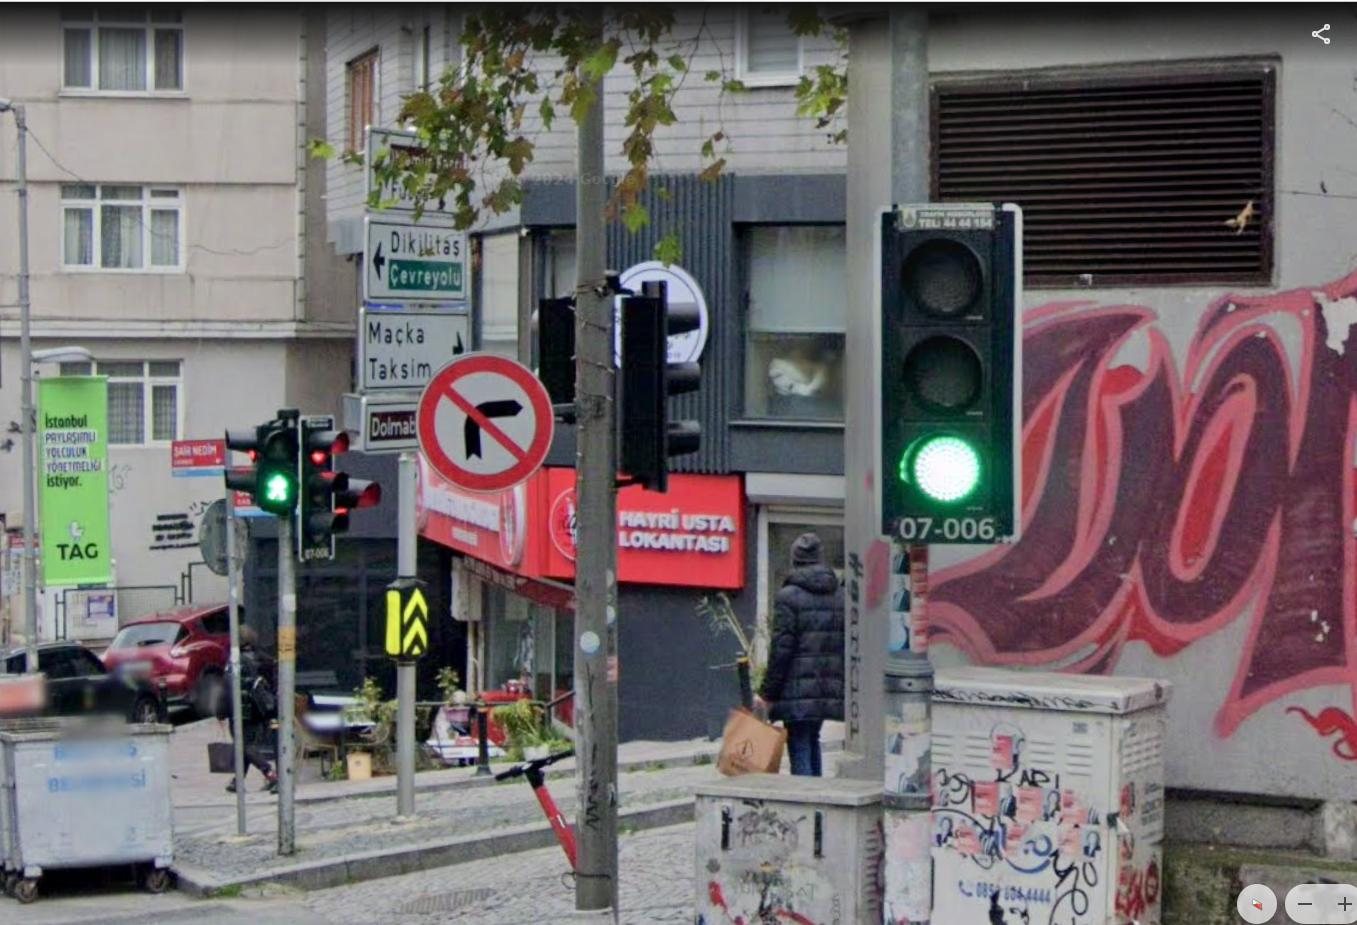greenlight: (889, 214, 1005, 510)
rightturnsareforbidden: (426, 361, 543, 481)
